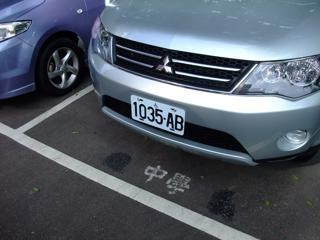plate: (128, 93, 188, 137)
